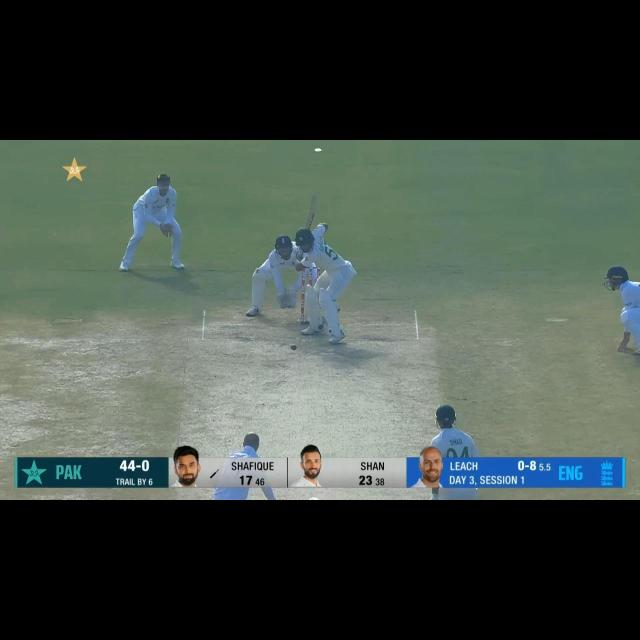bat: (305, 193, 317, 228)
toe: (311, 194, 318, 202)
